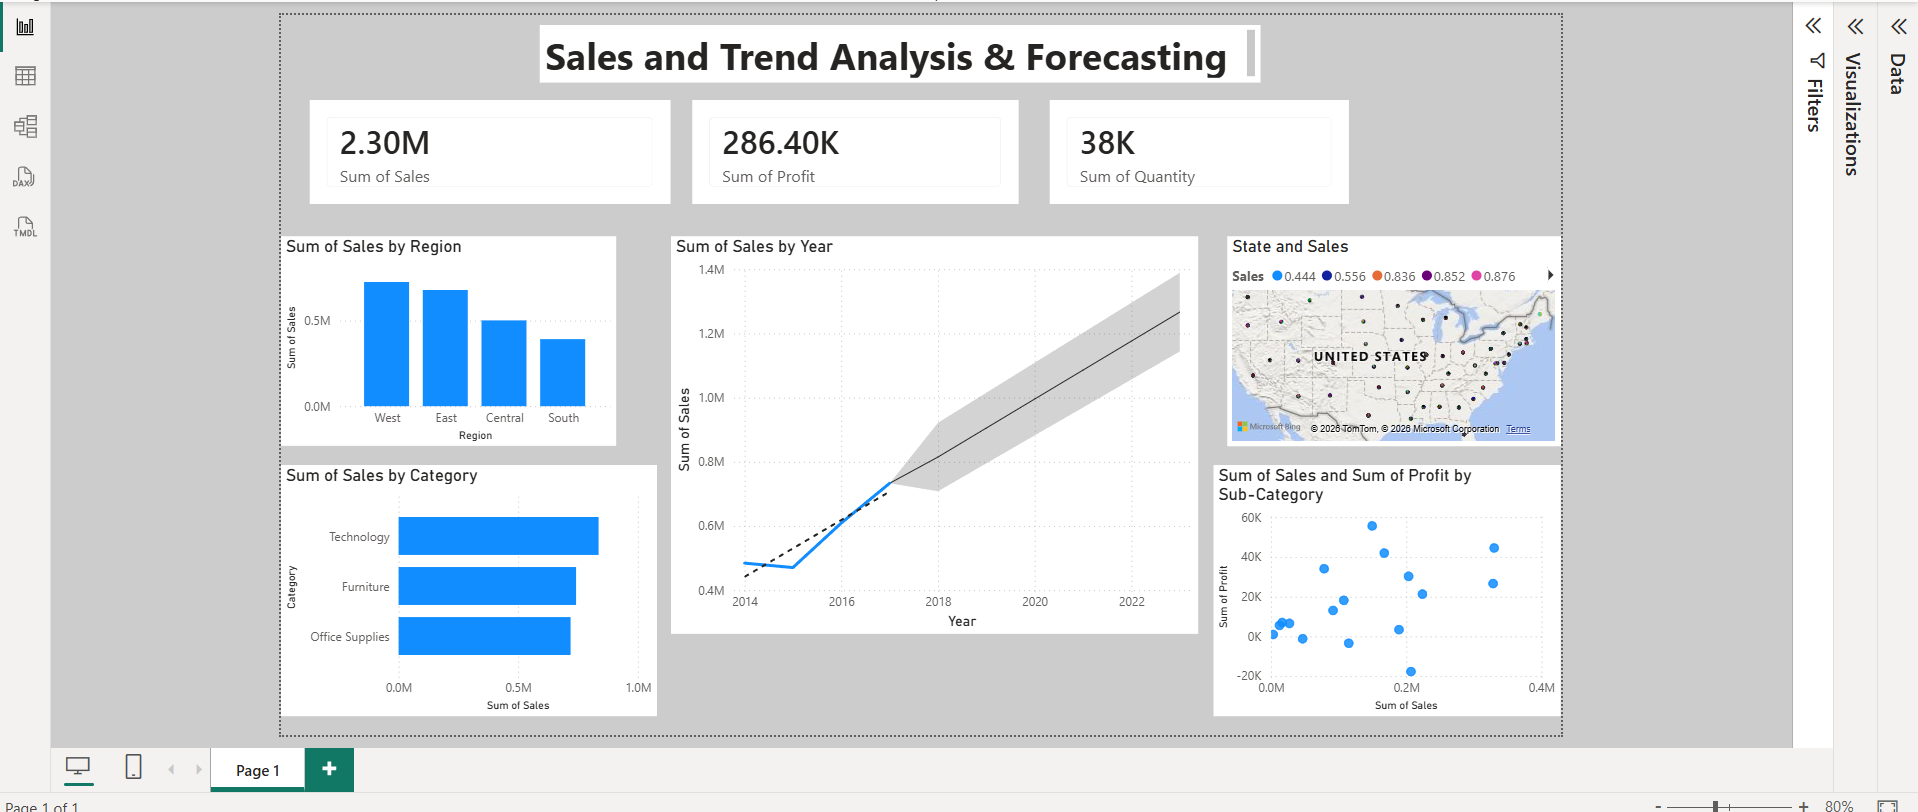

Layout of this report page (visuals, bound fields, positions):
{"tool":"powerbi","page":{"name":"Page 1","canvas":[1280,720],"ordinal":0},"visuals":[{"type":"lineChart","fields":{"Y":["Sum(Sample - Superstore.Sales)"],"Category":["Sample - Superstore.Order Date.Variation.Date Hierarchy.Year","Sample - Superstore.Order Date.Variation.Date Hierarchy.Month"]},"box":[389.7,220.9,526.9,397.9],"z":0},{"type":"clusteredBarChart","fields":{"Category":["Sample - Superstore.Category"],"Y":["Sum(Sample - Superstore.Sales)"]},"box":[0,450.1,376,251.1],"z":1000},{"type":"clusteredColumnChart","fields":{"Category":["Sample - Superstore.Region"],"Y":["Sum(Sample - Superstore.Sales)"]},"box":[0,220.9,334.8,209.9],"z":2000},{"type":"map","fields":{"Category":["Sample - Superstore.State"],"Series":["Sample - Superstore.Sales"]},"box":[946.8,220.9,333.4,209.9],"z":3000},{"type":"scatterChart","fields":{"Category":["Sample - Superstore.Sub-Category"],"Y":["Sum(Sample - Superstore.Profit)"],"X":["Sum(Sample - Superstore.Sales)"]},"box":[933.1,450.1,347.2,251.1],"z":4000},{"type":"cardVisual","fields":{"Data":["Sum(Sample - Superstore.Sales)"]},"box":[28.8,85.1,360.9,104.3],"z":4001},{"type":"cardVisual","fields":{"Data":["Sum(Sample - Superstore.Profit)"]},"box":[411.7,85.1,326.6,104.3],"z":4002},{"type":"cardVisual","fields":{"Data":["Sum(Sample - Superstore.Quantity)"]},"box":[768.4,85.1,299.1,104.3],"z":4003},{"type":"textbox","box":[259.3,9.6,720.4,57.6],"z":4005}]}

Visuals, with their boxes on the page's 1280x720 design canvas (x1, y1, x2, y2). These are canvas units, not pixel positions in the 1918x812 screenshot, which may show the page scaled, cropped or inside an application window:
lineChart - Sum(Sample - Superstore.Sales) x Sample - Superstore.Order Date.Variation.Date Hierarchy.Year: pyautogui.locateOnScreen(390, 221, 917, 619)
clusteredBarChart - Sample - Superstore.Category x Sum(Sample - Superstore.Sales): pyautogui.locateOnScreen(0, 450, 376, 701)
clusteredColumnChart - Sample - Superstore.Region x Sum(Sample - Superstore.Sales): pyautogui.locateOnScreen(0, 221, 335, 431)
map - Sample - Superstore.State x Sample - Superstore.Sales: pyautogui.locateOnScreen(947, 221, 1280, 431)
scatterChart - Sample - Superstore.Sub-Category x Sum(Sample - Superstore.Profit): pyautogui.locateOnScreen(933, 450, 1280, 701)
cardVisual - Sum(Sample - Superstore.Sales): pyautogui.locateOnScreen(29, 85, 390, 189)
cardVisual - Sum(Sample - Superstore.Profit): pyautogui.locateOnScreen(412, 85, 738, 189)
cardVisual - Sum(Sample - Superstore.Quantity): pyautogui.locateOnScreen(768, 85, 1068, 189)
textbox: pyautogui.locateOnScreen(259, 10, 980, 67)
